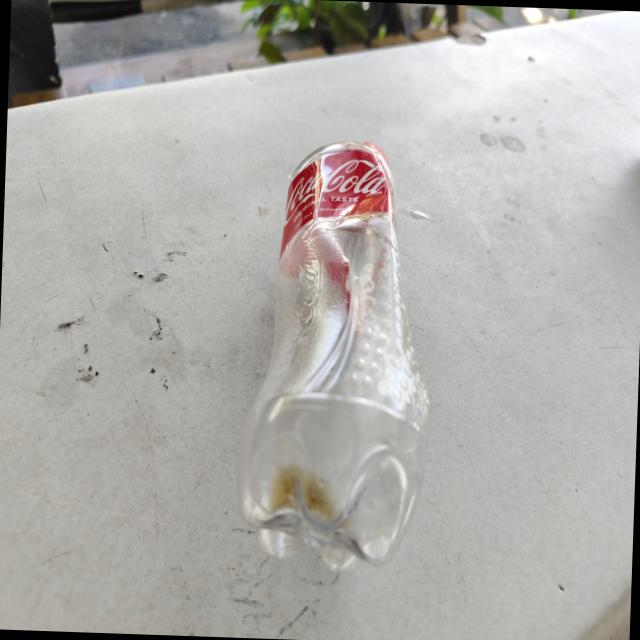Bottle: (236, 141, 431, 587)
